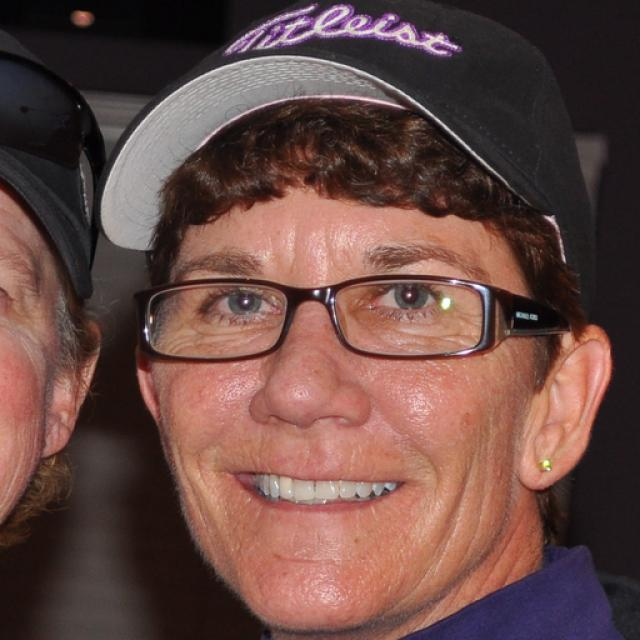happy: (156, 98, 536, 632)
